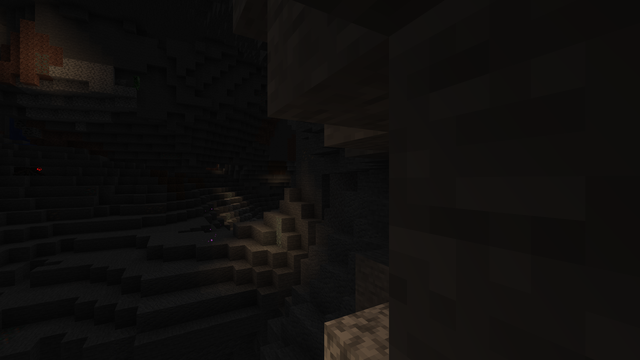araignees: (15, 165, 43, 175)
creepers: (133, 74, 139, 90)
slimes: (87, 150, 93, 154)
